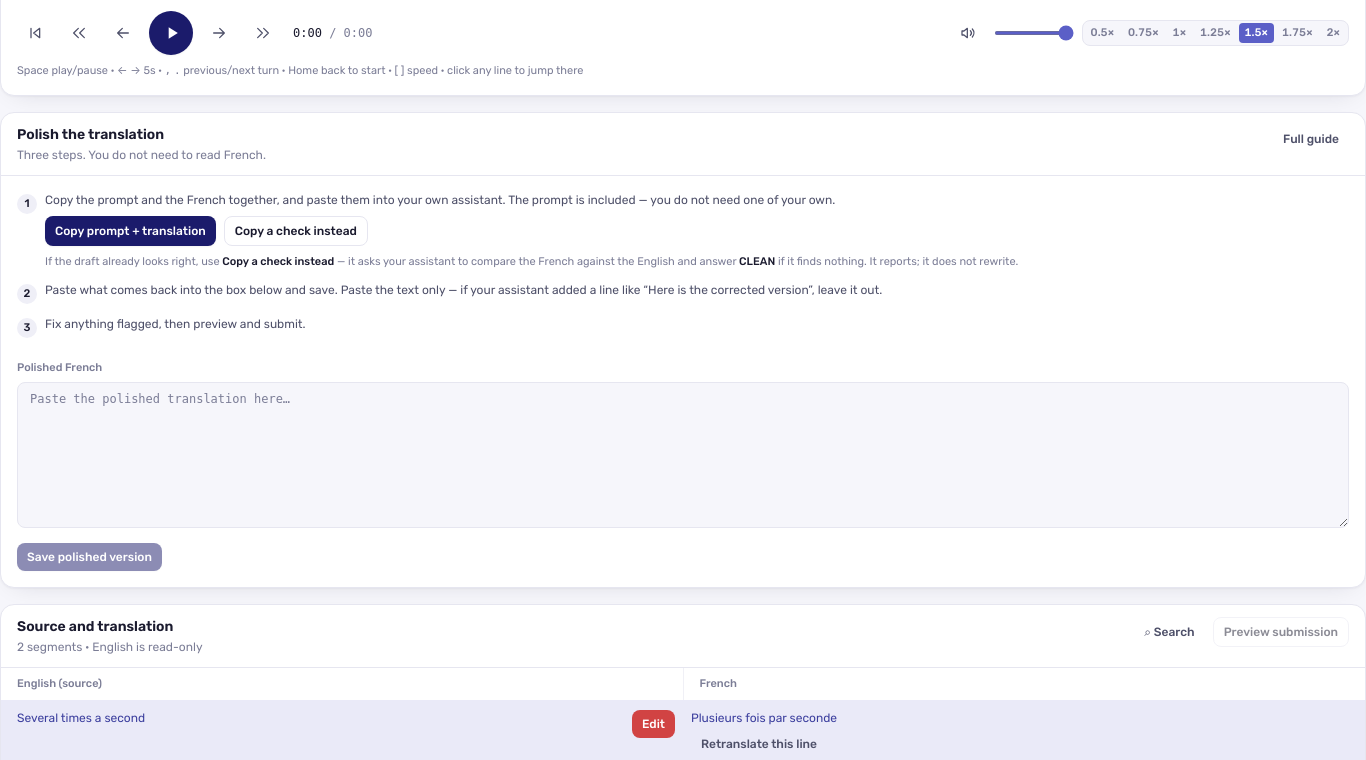
Test: the polish round trip › sends the pasted text to the server and reports what was found
(page scrolled)
Expected: the text "Plusieurs fois par seconde" is shown, x1=691 y1=710 x2=837 y2=726
Type "Texte poli" into the text box labelled "Polished French" at [683, 455], box x1=17 y1=382 x2=1349 y2=528
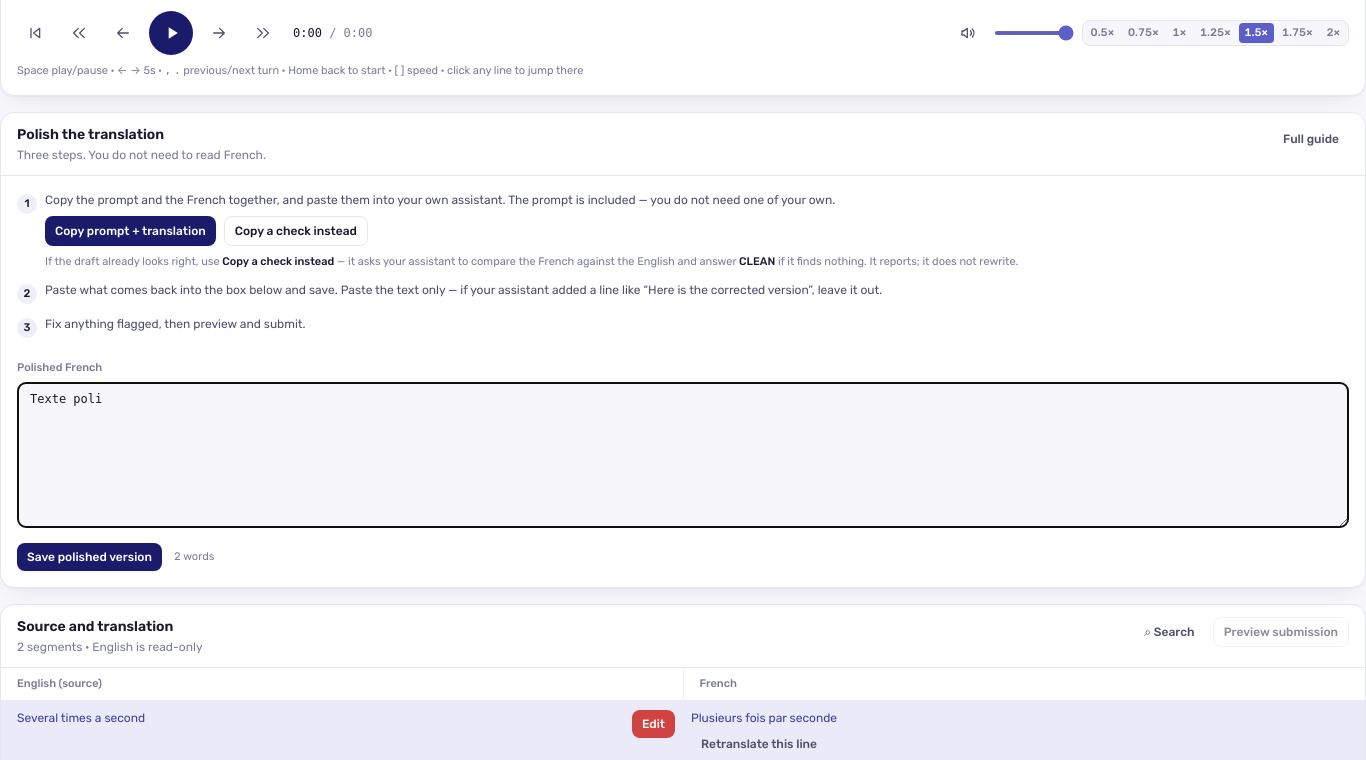
Click the button "Save polished version" at [89, 557], box x1=17 y1=543 x2=162 y2=571
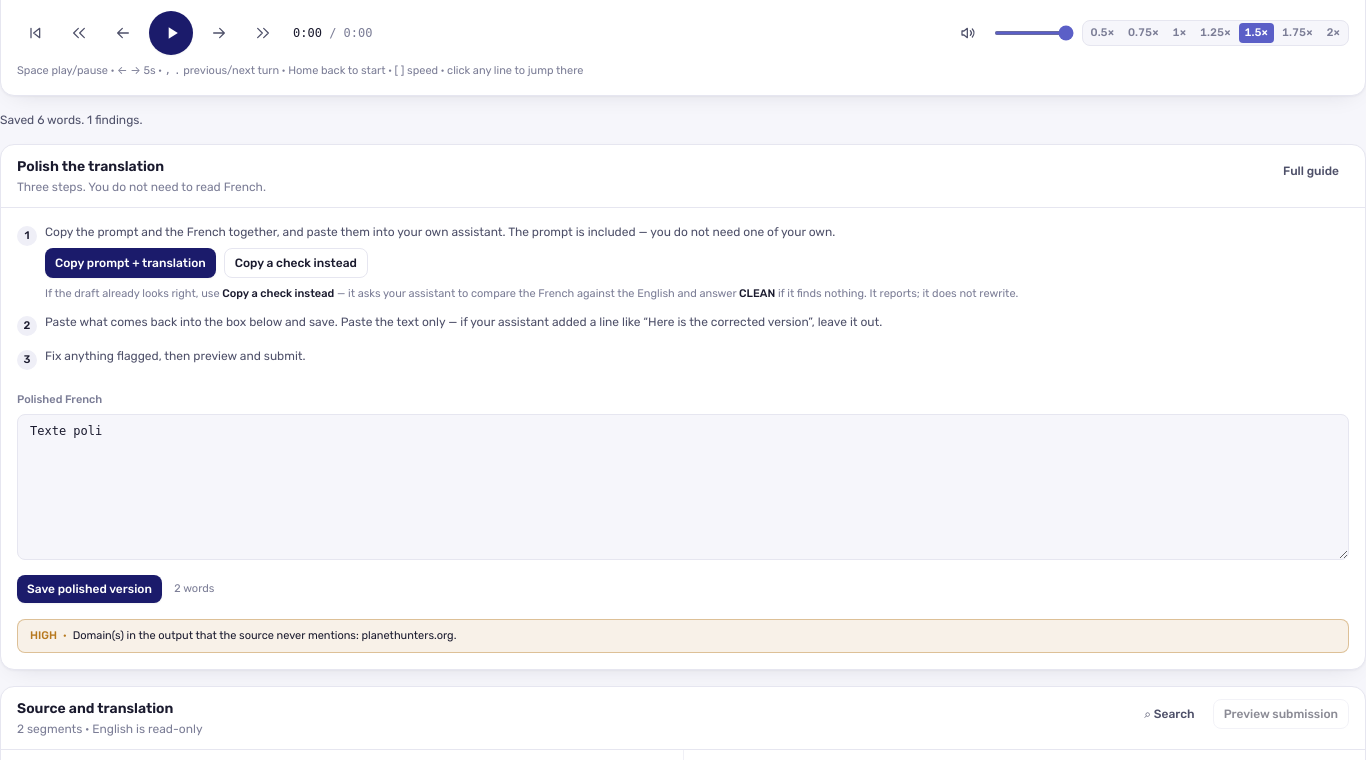
Expected: the text "planethunters.org" is shown, x1=73 y1=629 x2=456 y2=642
